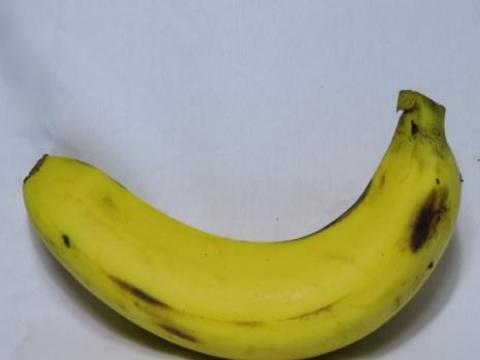freshripe: (12, 80, 479, 359)
